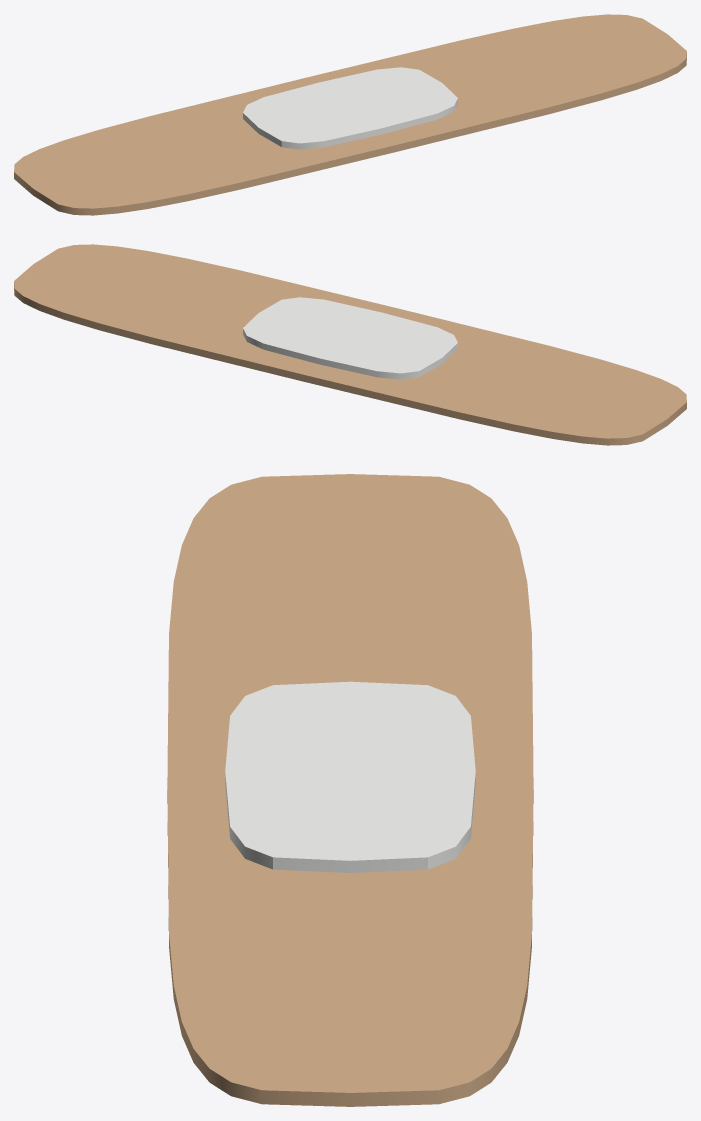
File: curativo_adesivo.dae
3 renders of one model, top to bottom at view 1: azimuth 30°, elevation 25°; view 2: azimuth 150°, elevation 25°; view 3: azimuth 270°, elevation 25°, orthographic. The views are drawn at different scales.
Parts seen in each view (by area): view 1: Curativo adesivo (×2); view 2: Curativo adesivo (×2); view 3: Curativo adesivo (×2).
Boxes of the visible parts, x1=… form: Curativo adesivo (×2): x1=14, y1=14, x2=686, y2=215; Curativo adesivo (×2): x1=14, y1=244, x2=686, y2=445; Curativo adesivo (×2): x1=167, y1=474, x2=533, y2=1106.
Size of the model in its own units: 76 by 19 by 1.5.
